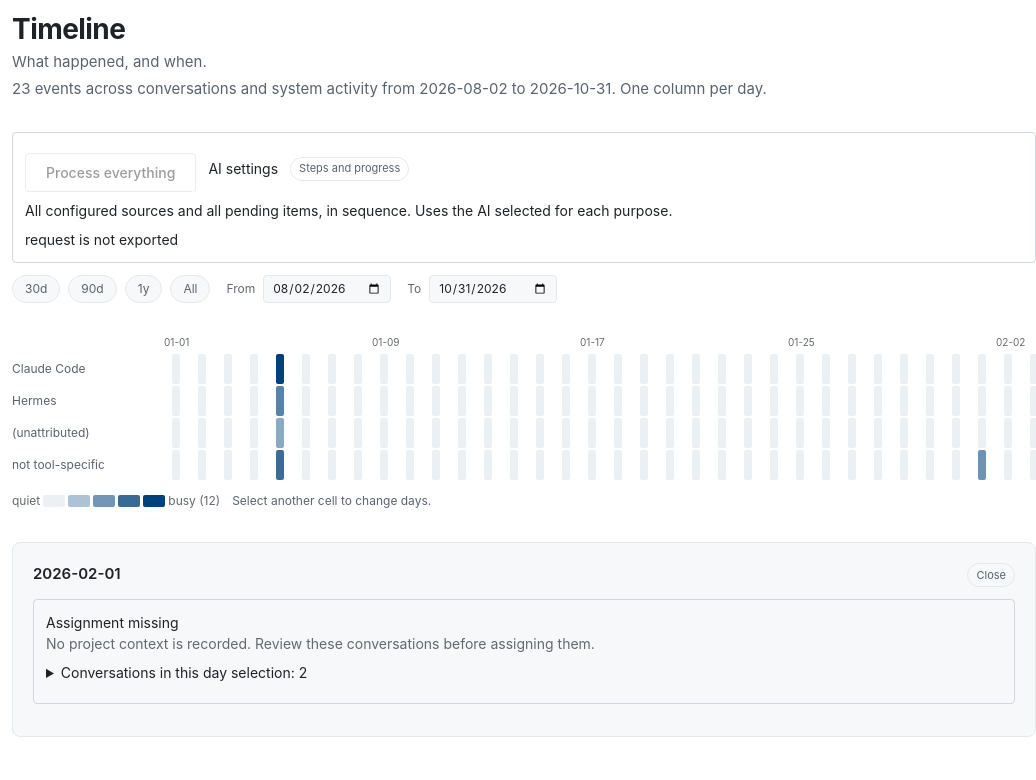
Test case: TimelinePage › shows how many of the cell's total are displayed when the detail response is truncated
Click the button named "Claude Code, 2026-01-05, 12 events" at (280, 369), box [268,354,292,384]
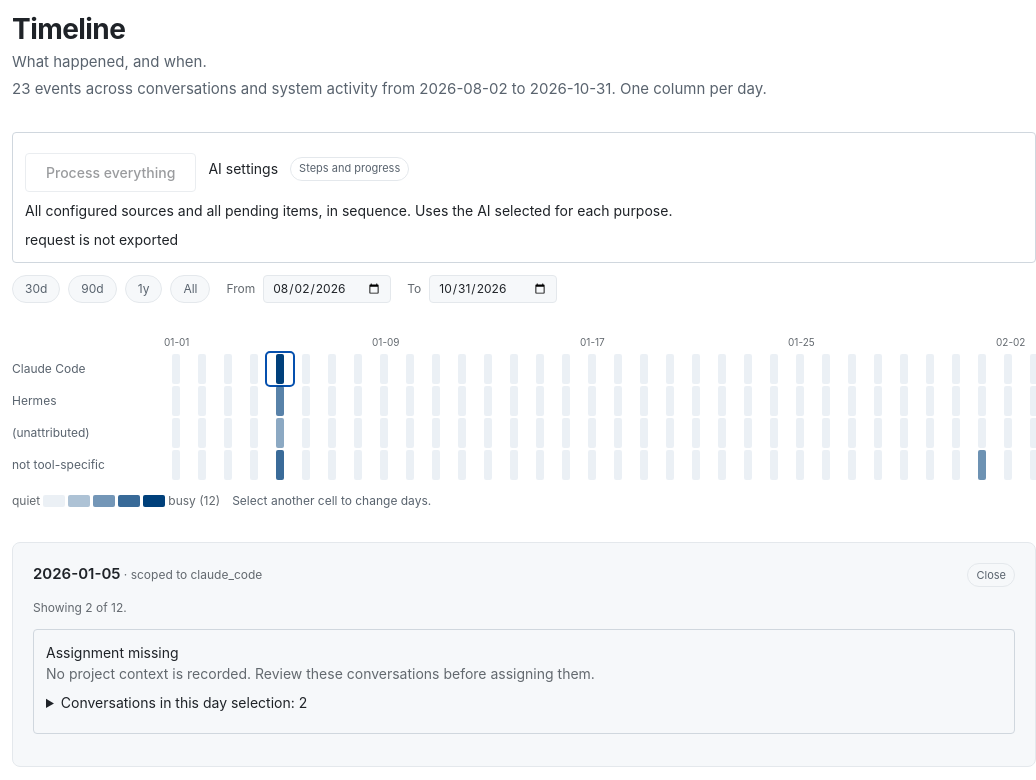
expect the text "Showing 2 of 12." is shown: met, box [33,600,127,615]
